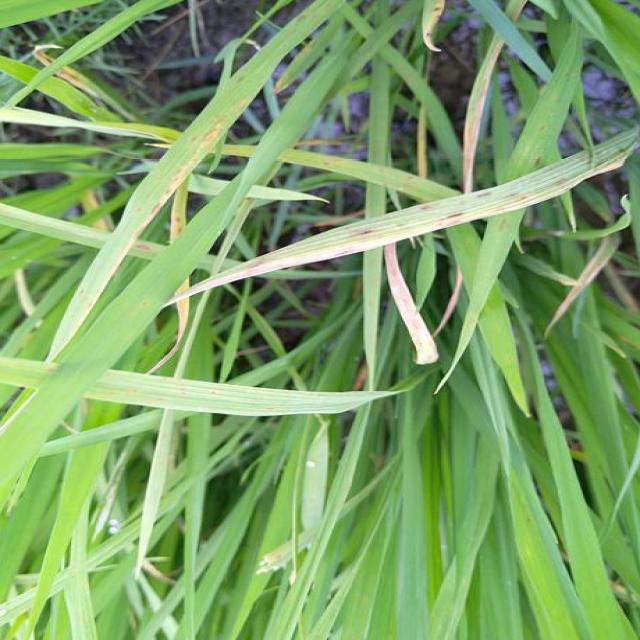Leaf Streak: (166, 127, 640, 304)
